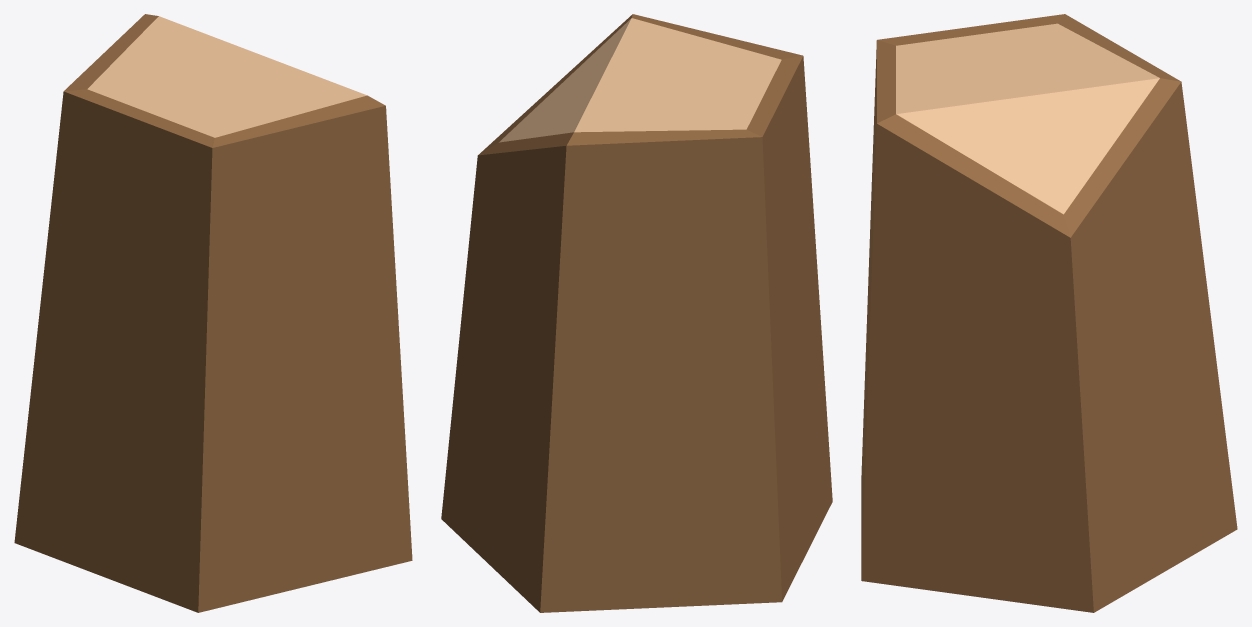
Rendered from Pine_Stump_03.fbx.
3 renders of one model, left to right at view 1: azimuth 30°, elevation 25°; view 2: azimuth 150°, elevation 25°; view 3: azimuth 270°, elevation 25°, orthographic.
Visible parts, largest first — view 1: Pine_Stump_03; view 2: Pine_Stump_03; view 3: Pine_Stump_03.
Boxes of the visible parts, <box> form: Pine_Stump_03: <box>14,14,412,612</box>; Pine_Stump_03: <box>441,14,832,612</box>; Pine_Stump_03: <box>861,14,1237,612</box>.
Size of the model in its own units: 61.88 by 78.3 by 58.85.
